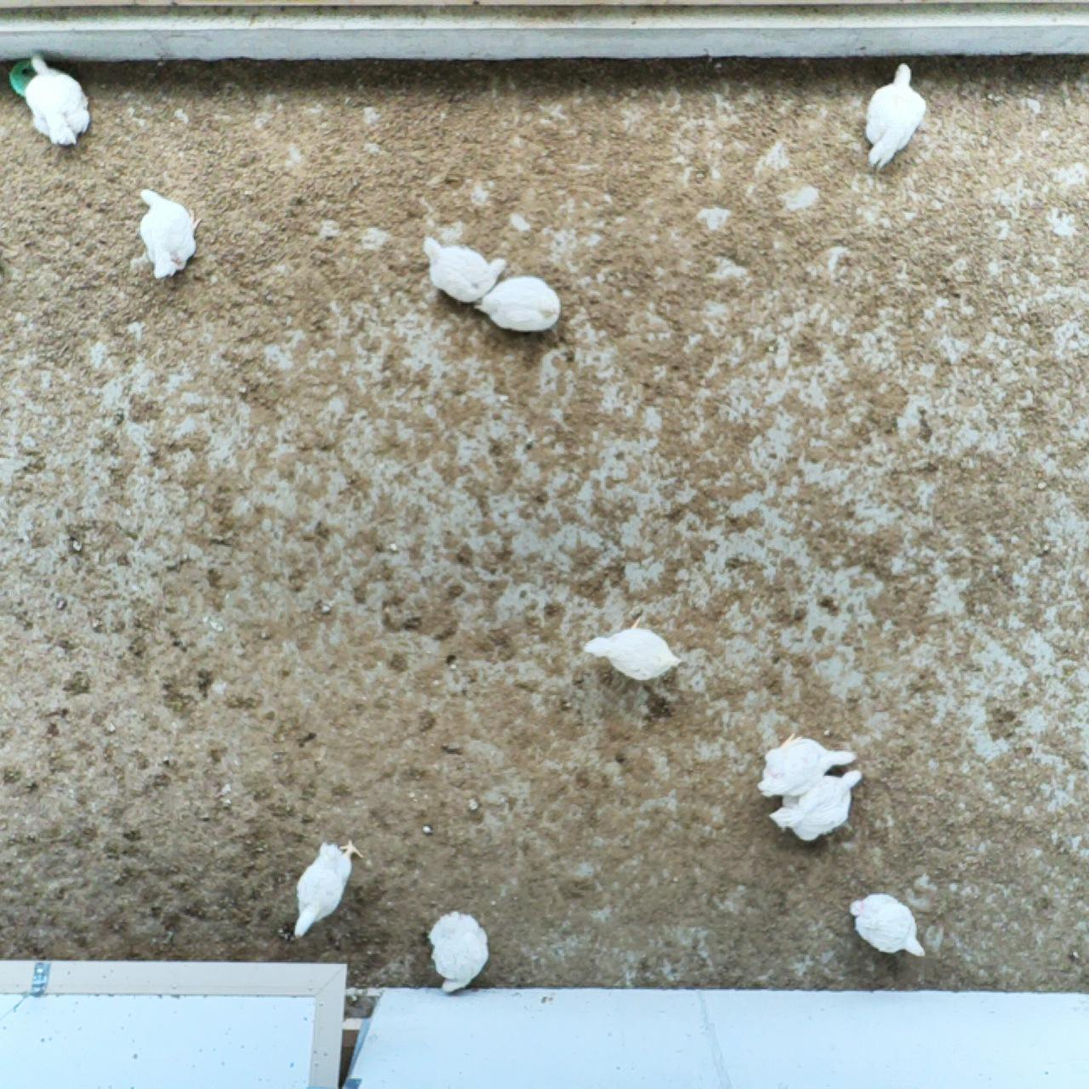chicken: (856, 56, 931, 172), (768, 767, 868, 848), (754, 727, 859, 803), (581, 610, 683, 688), (292, 836, 364, 943), (20, 51, 92, 150), (418, 231, 510, 306), (135, 184, 205, 280), (473, 272, 566, 337), (425, 907, 493, 994), (847, 891, 929, 962)
